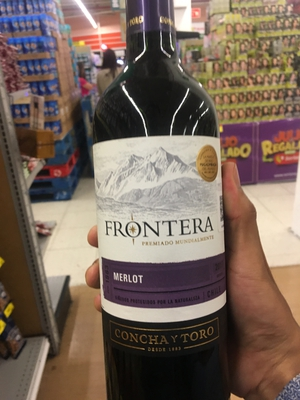frontera merlot: (84, 11, 237, 387)
